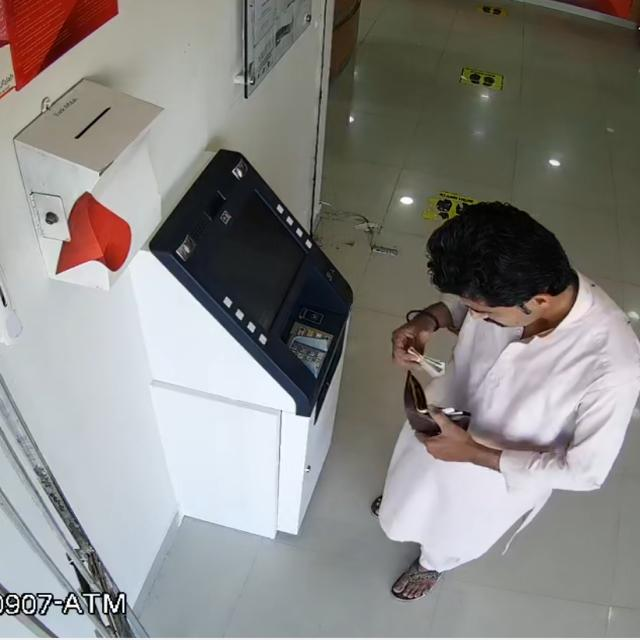note: (387, 336, 456, 389)
